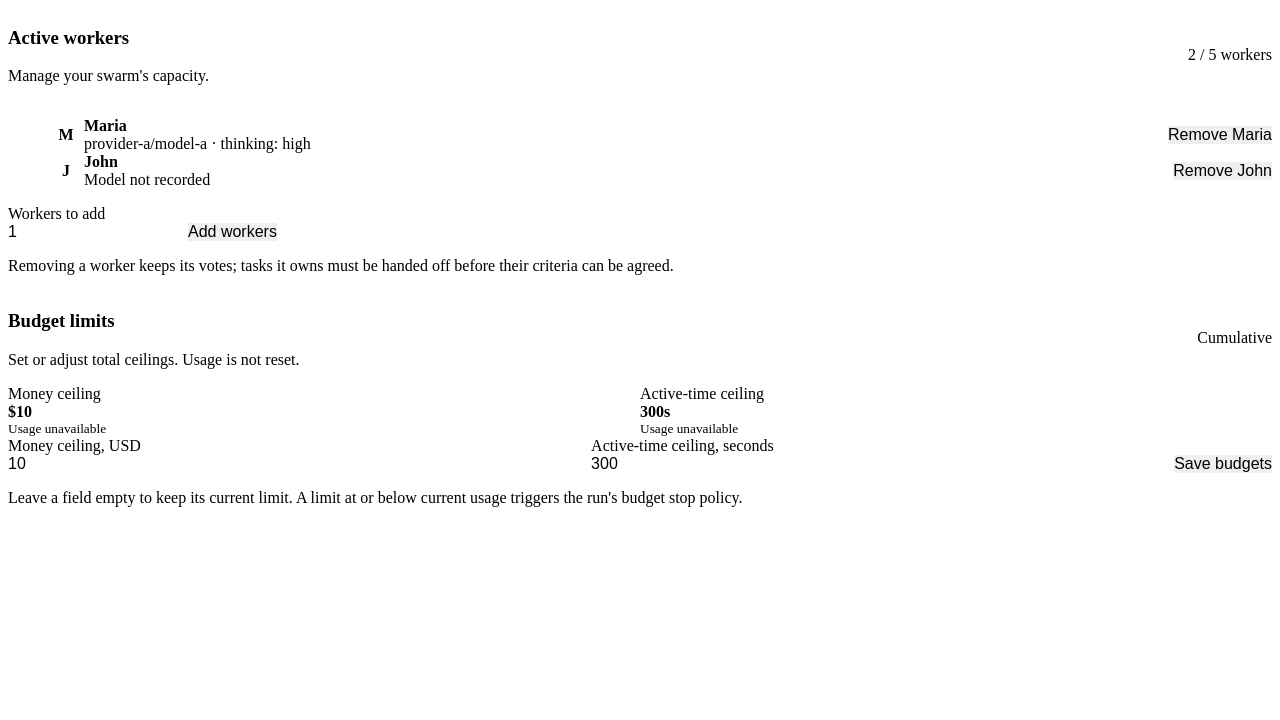
Test: keeps a failed request visible without claiming the edit was applied
This screenshot has width=1280, height=720.
Click the button "Add workers" at (232, 232), box [188,223,277,241]
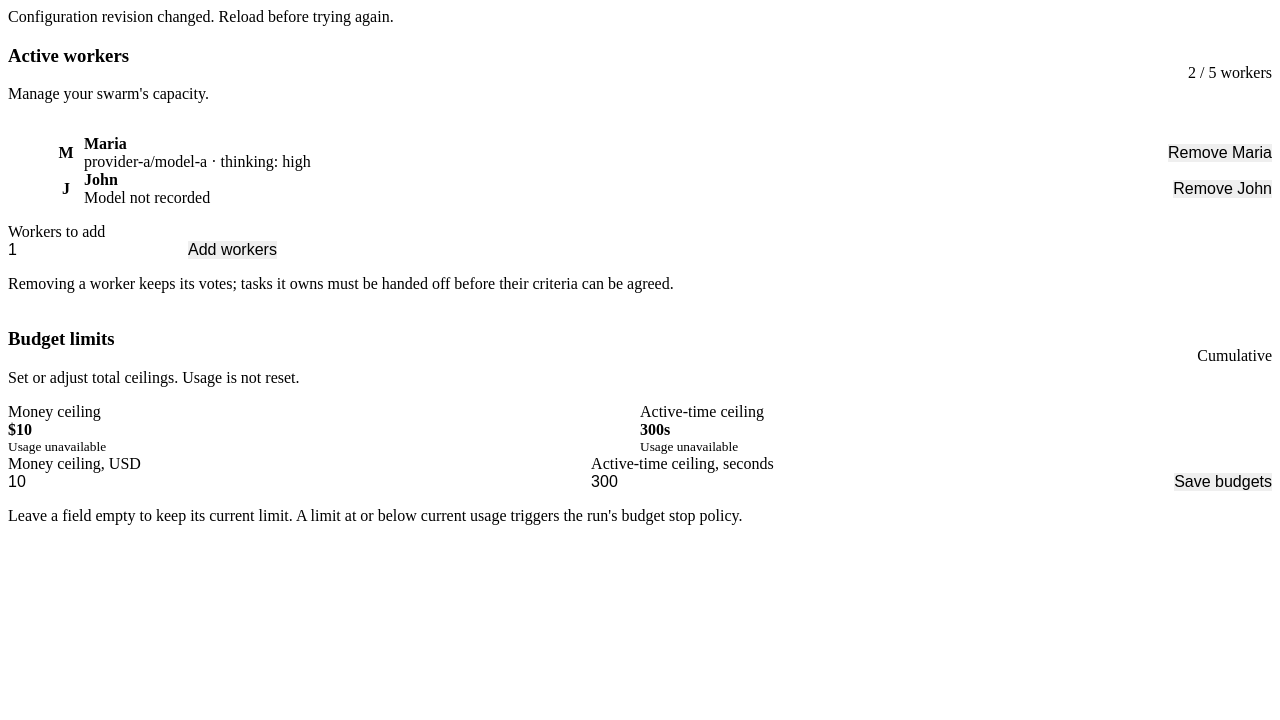
expect the message shows "Configuration revision changed": met, box [8,8,394,25]
